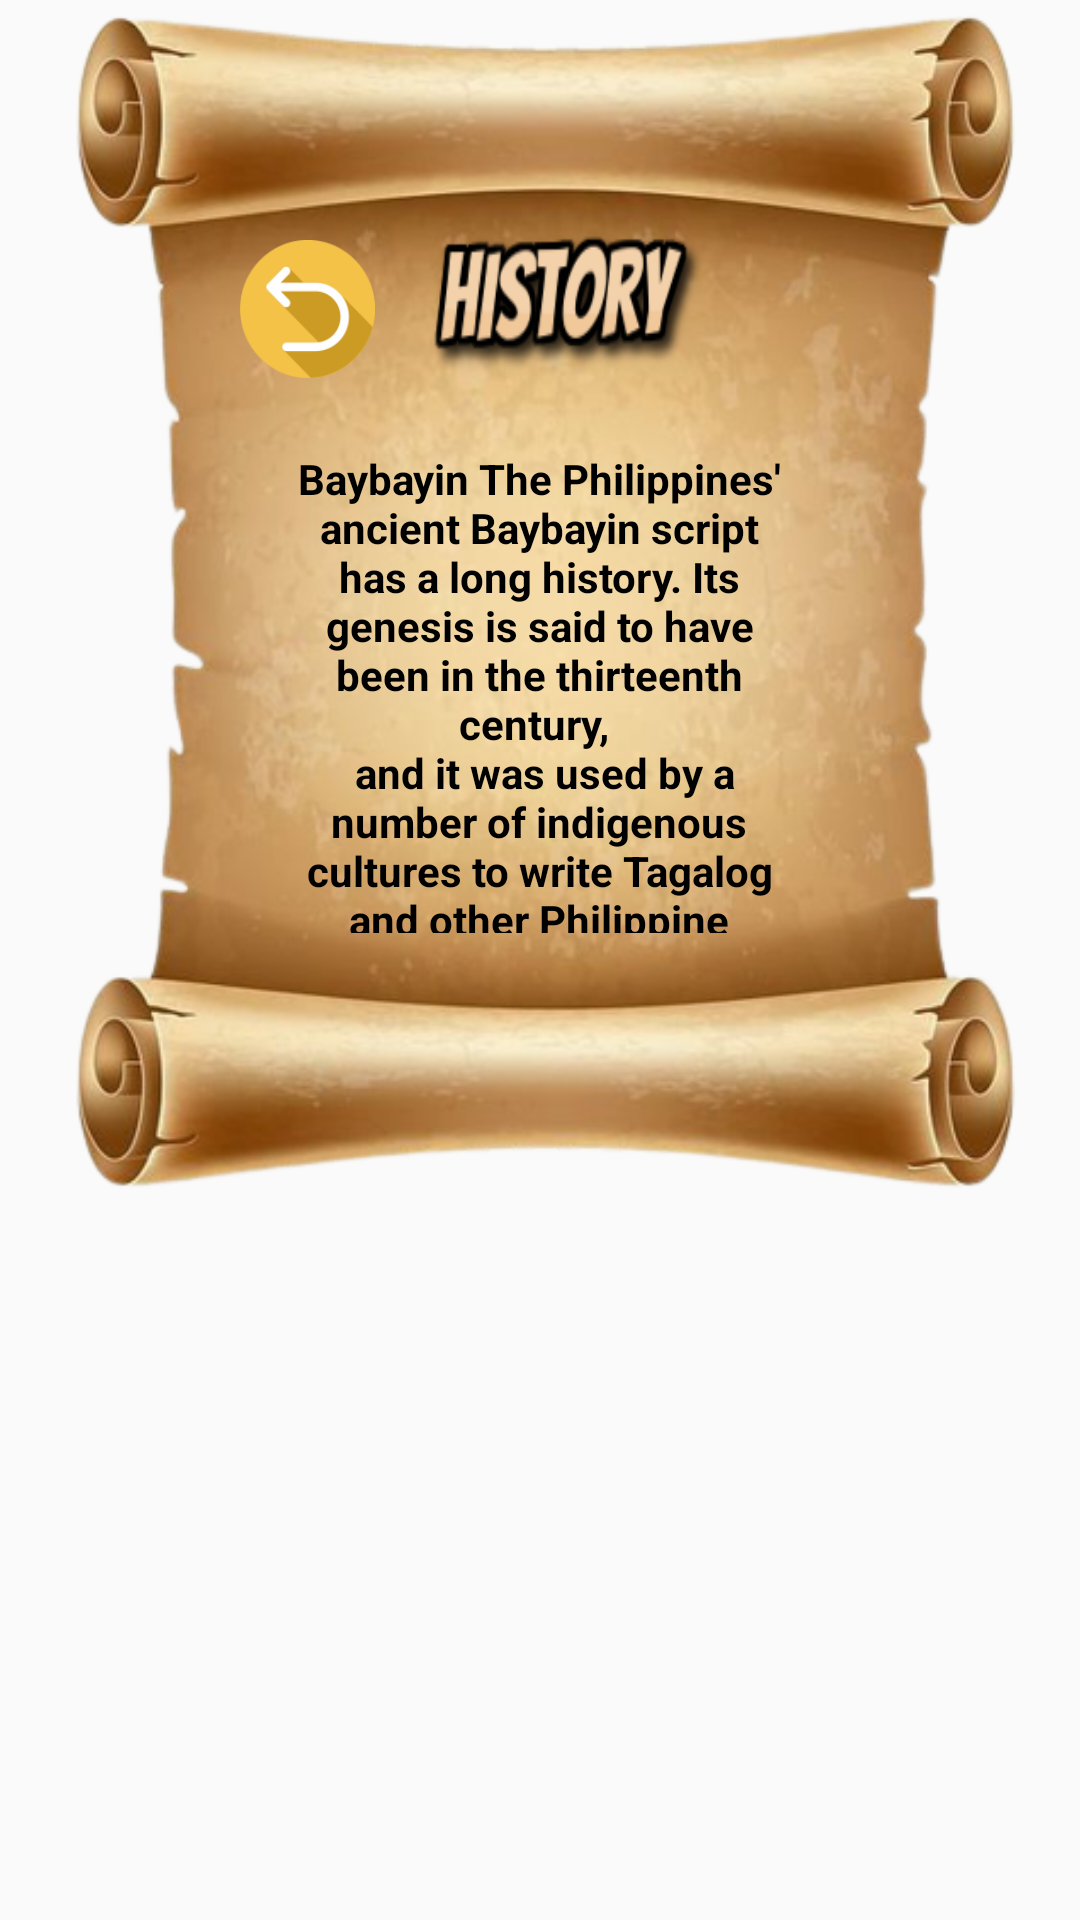

Where to tap for icons on this 1080px x 1920px app screen, as (x,y):
Back: (307,309)
